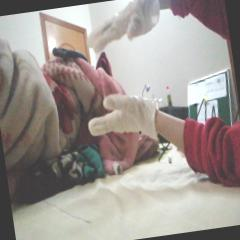gloved: (81, 0, 165, 54), (84, 88, 160, 147)
